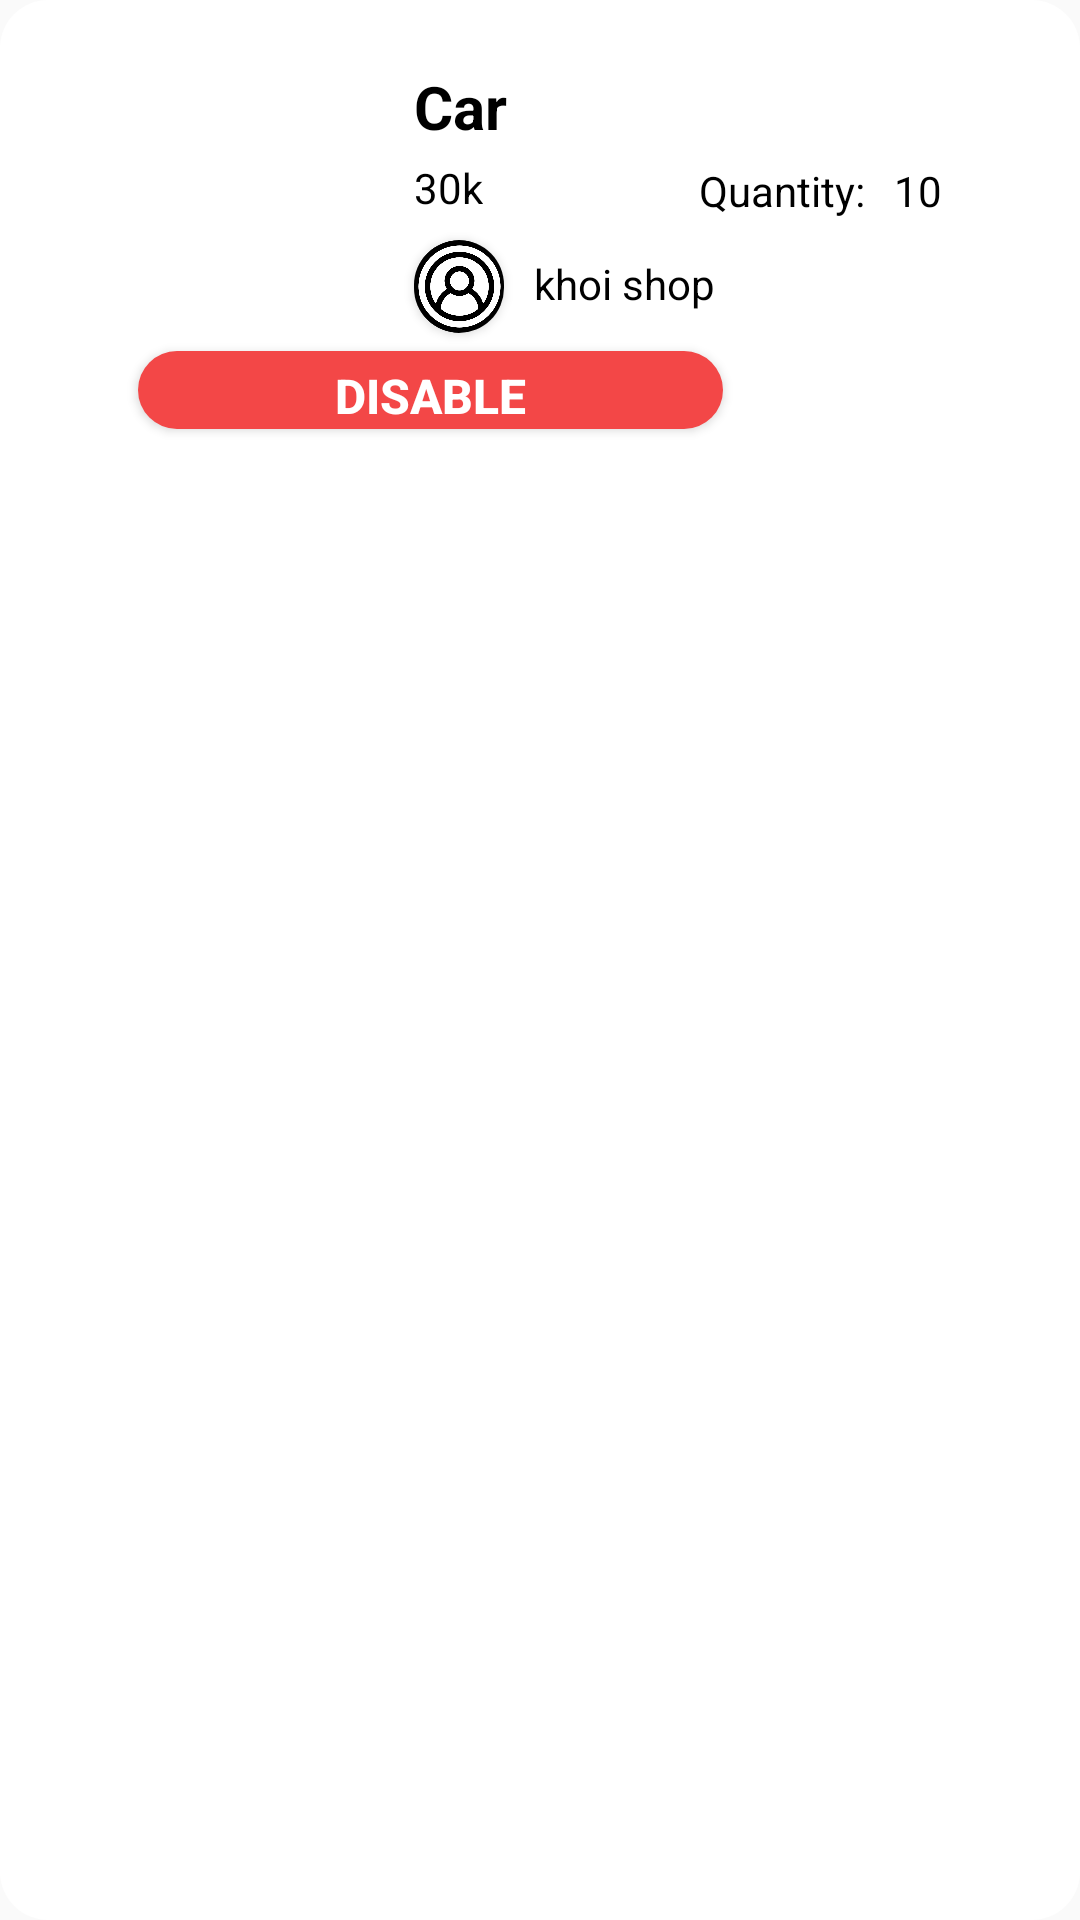

Named icons in this screenshot (1080x1920) and their bounding boxes, (x1, y1, x2, y2):
profile picture: (414, 240, 504, 333)
